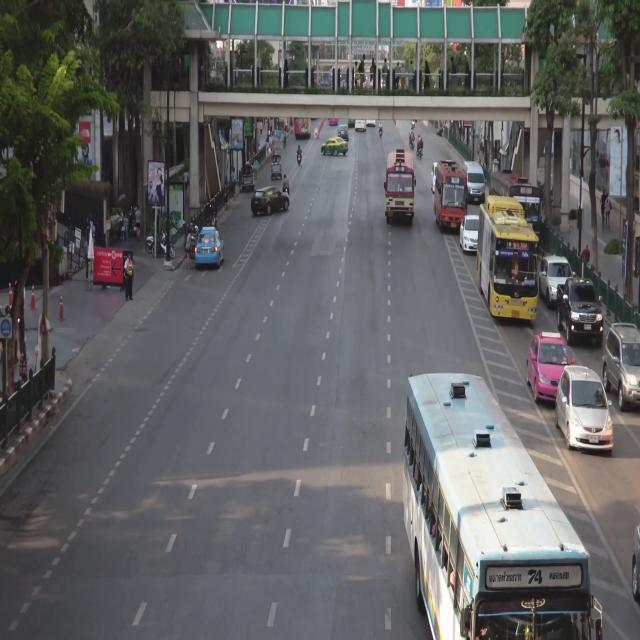bus: (407, 376, 594, 640), (479, 199, 536, 323), (490, 172, 540, 248), (436, 162, 467, 232), (387, 151, 413, 223), (294, 116, 311, 137)
car: (557, 365, 613, 453), (604, 325, 640, 409), (558, 278, 602, 346), (541, 255, 573, 303), (464, 161, 485, 204), (252, 190, 290, 212), (460, 215, 480, 252), (241, 166, 254, 191), (271, 154, 282, 180), (432, 162, 437, 191), (339, 125, 349, 139), (355, 119, 366, 131), (366, 120, 376, 127)
pedestrian: (125, 255, 133, 301), (135, 206, 142, 241), (604, 193, 611, 228), (85, 240, 90, 281), (581, 242, 590, 264), (600, 190, 606, 223), (187, 231, 192, 270), (225, 176, 229, 207), (231, 168, 235, 198), (254, 158, 257, 181), (269, 135, 272, 152), (283, 133, 286, 149), (270, 119, 272, 132)
taxi: (528, 334, 572, 403), (195, 228, 224, 266), (320, 138, 348, 156)
